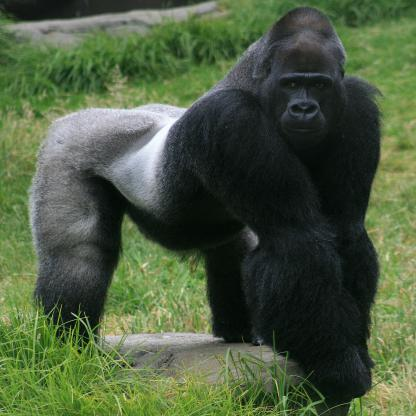Gorilla gorilla: (27, 6, 388, 416)
